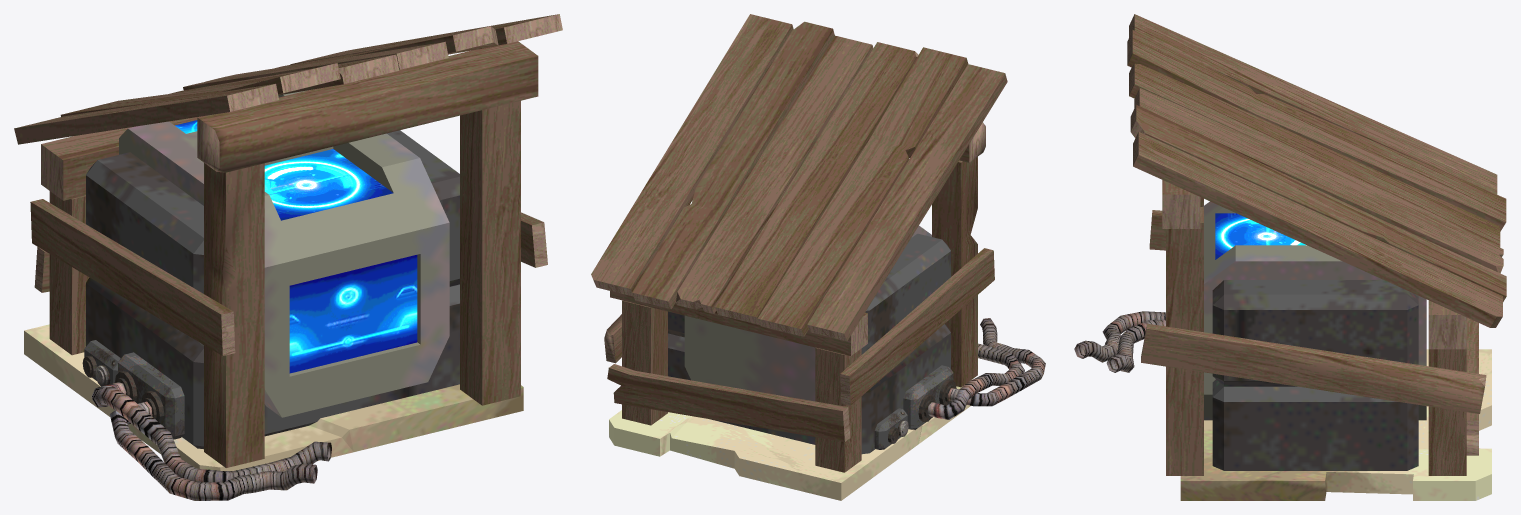
File: solarStation1-1.glb
3 renders of one model, left to right at view 1: azimuth 30°, elevation 25°; view 2: azimuth 150°, elevation 25°; view 3: azimuth 270°, elevation 25°, orthographic. The views are drawn at different scales.
Parts seen in each view (by area): view 1: solarStation1-1; view 2: solarStation1-1; view 3: solarStation1-1.
Boxes of the visible parts, x1,y1,x2,y2 form: solarStation1-1: [14, 14, 562, 500]; solarStation1-1: [591, 14, 1045, 500]; solarStation1-1: [1074, 14, 1506, 500].
Bounding box in the file's own units: 1.14 × 1.17 × 1.28.
1 material, 1 textured.
